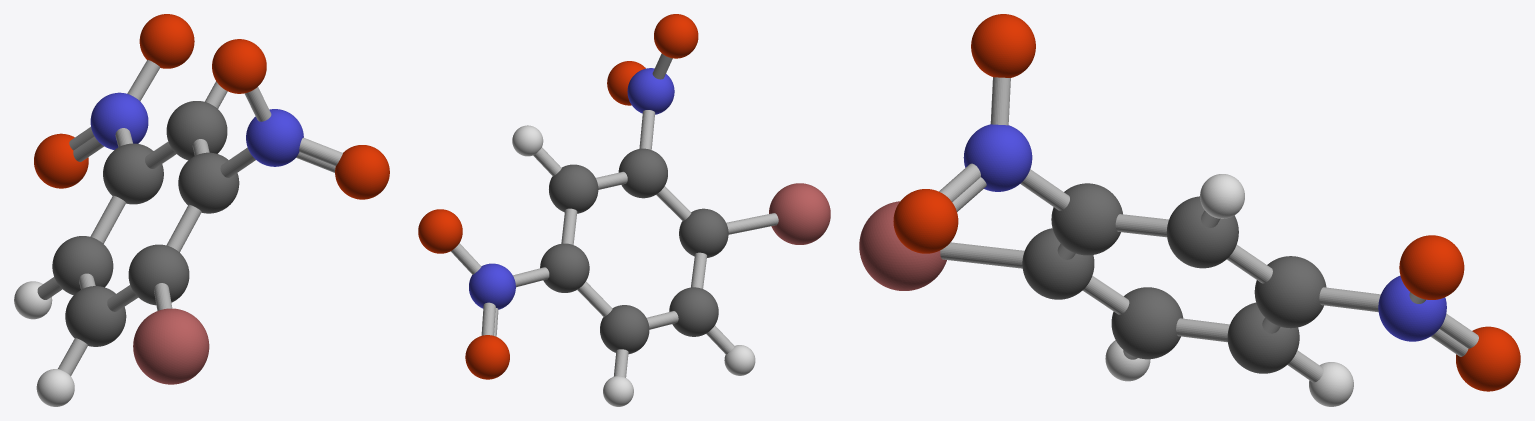
Rendered from Brc1c_cc_cc1_N____O__O-___N____O__O-__.glb.
The picture shows the model from 3 angles, left to right: view 1: azimuth 30°, elevation 25°; view 2: azimuth 150°, elevation 25°; view 3: azimuth 270°, elevation 25°; orthographic projection. The views are drawn at different scales.
Visible parts, largest first — view 1: world; view 2: world; view 3: world.
Part boxes in pixels (x1,y1,x2,y2): world: [14, 14, 389, 406]; world: [418, 14, 830, 406]; world: [859, 14, 1520, 406].
Bounding box in the file's own units: 4.24 × 5.36 × 7.34.
